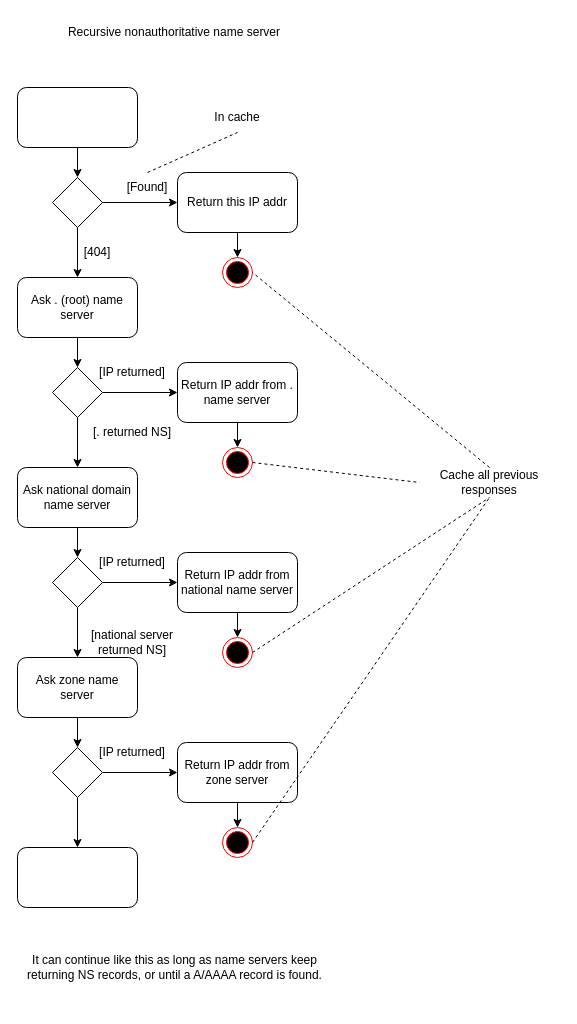
Image size: 577x1024. Some labels were removed from this diagram. Here are the shapes that lost their labels. From the top down, the centre of each, then its label:
At (x=77, y=117): "Find IP addr".
At (x=77, y=877): "Ask another NS".
